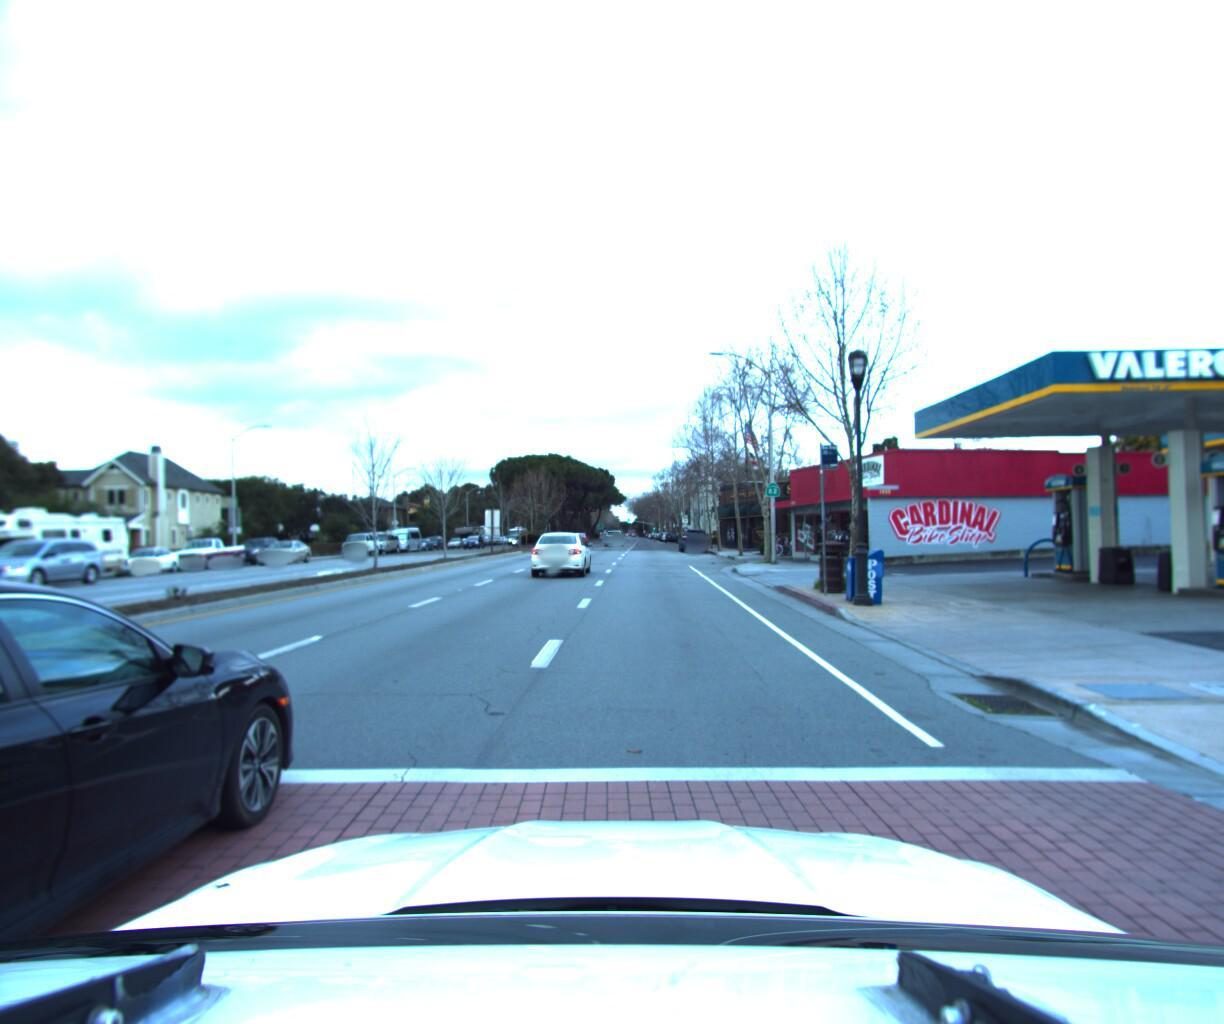bicycle: (833, 526, 877, 552), (828, 526, 872, 552), (767, 529, 787, 553)
car: (0, 555, 333, 1024), (0, 539, 112, 598), (168, 532, 251, 573), (528, 527, 595, 576), (113, 545, 188, 578), (230, 535, 290, 566), (256, 541, 317, 569), (386, 522, 425, 552), (340, 530, 383, 555), (364, 526, 403, 553), (680, 523, 709, 550), (602, 527, 625, 543)
other_vehicle: (0, 500, 136, 592)
